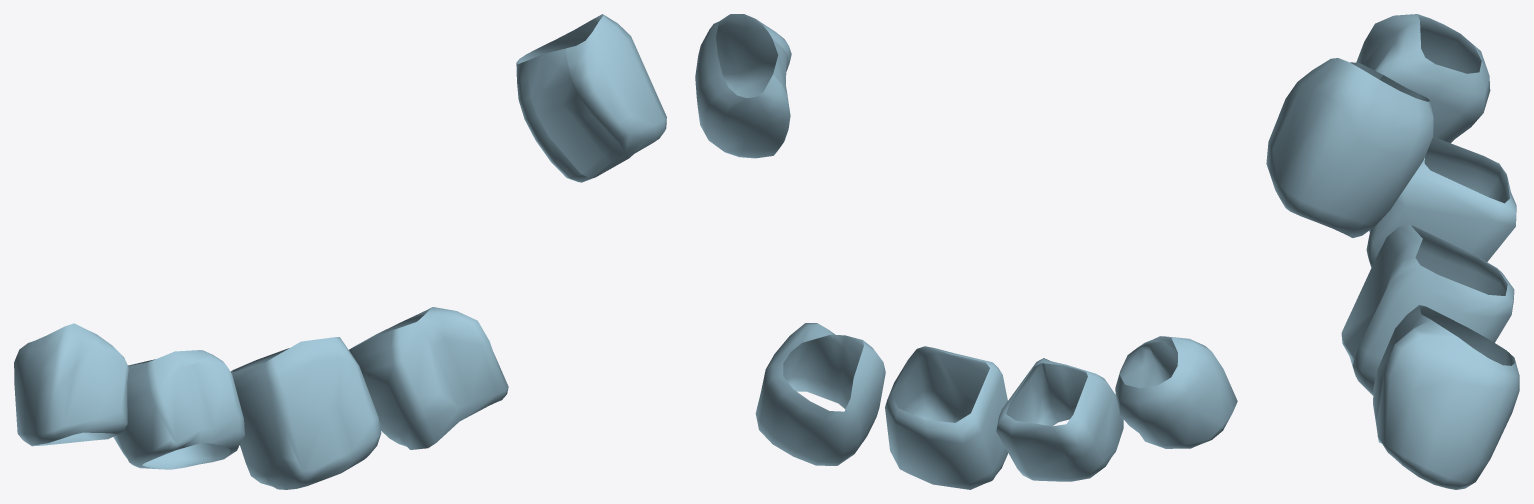
The model's file is articulacoes-articular-capsules-of-metacarpophalangeal-joints-l.glb.
3 views of the same model, side by side, from view 1: azimuth 30°, elevation 25°; view 2: azimuth 150°, elevation 25°; view 3: azimuth 270°, elevation 25° (orthographic). The views are drawn at different scales.
Parts seen in each view (by area): view 1: Articular capsules of metacarpophalangeal joints.l; view 2: Articular capsules of metacarpophalangeal joints.l; view 3: Articular capsules of metacarpophalangeal joints.l.
Part boxes in pixels (x1,y1,x2,y2): Articular capsules of metacarpophalangeal joints.l: (14,14,666,489); Articular capsules of metacarpophalangeal joints.l: (695,14,1237,489); Articular capsules of metacarpophalangeal joints.l: (1266,14,1519,489).
Bounding box in the file's own units: 0.0924 × 0.0614 × 0.0286.
